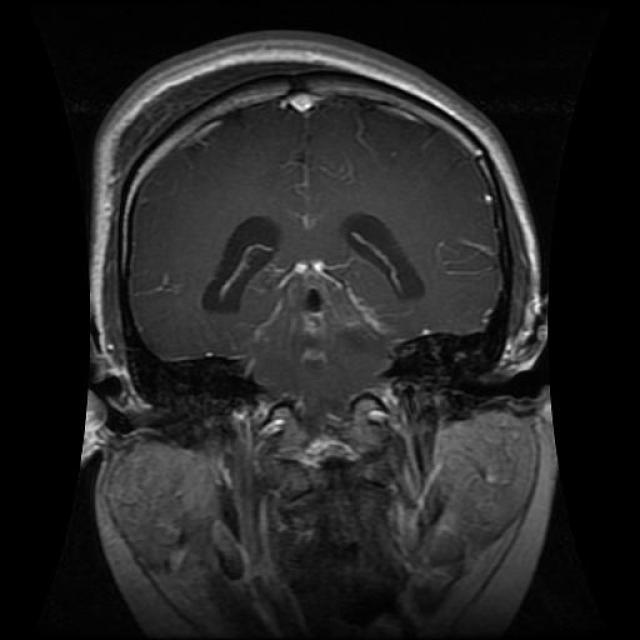glioma: (198, 211, 428, 350)
